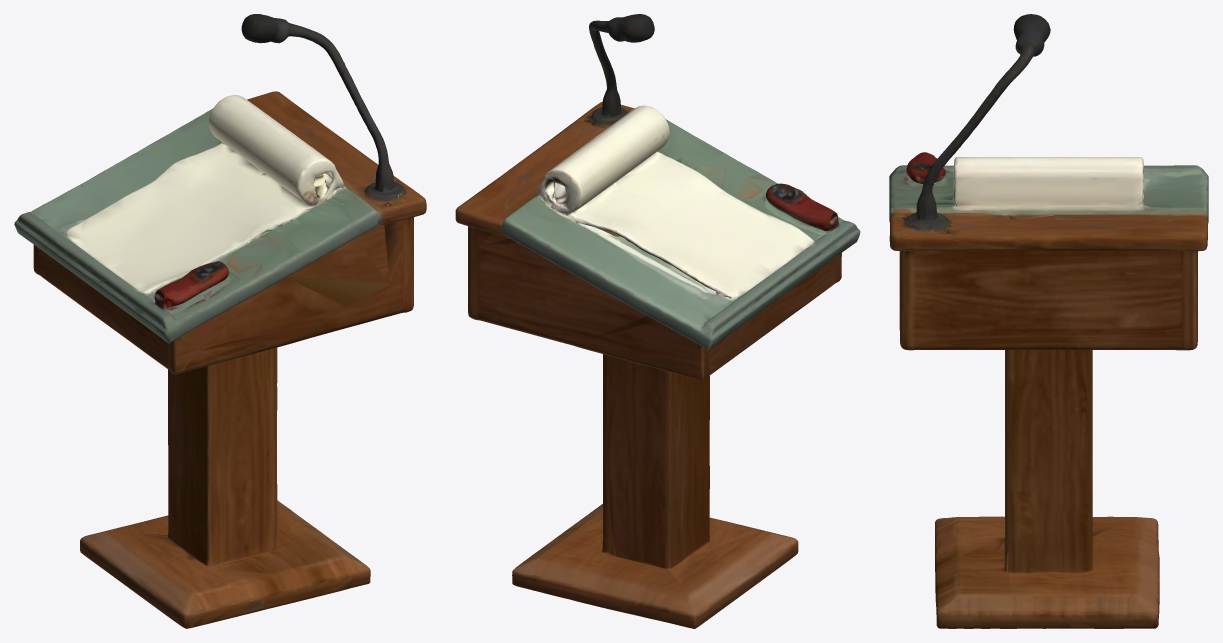
File: sc-lectern-notes.glb
The picture shows the model from 3 angles, left to right: view 1: azimuth 30°, elevation 25°; view 2: azimuth 150°, elevation 25°; view 3: azimuth 270°, elevation 25°; orthographic projection. The views are drawn at different scales.
Visible parts, largest first — view 1: geometry_0; view 2: geometry_0; view 3: geometry_0.
Part boxes in pixels (x1=…): geometry_0: x1=14, y1=14, x2=426, y2=628; geometry_0: x1=455, y1=14, x2=860, y2=628; geometry_0: x1=889, y1=14, x2=1208, y2=628.
Size of the model in its own units: 0.5037 by 1 by 0.5032.
Materials: 1 (1 with a texture image).
